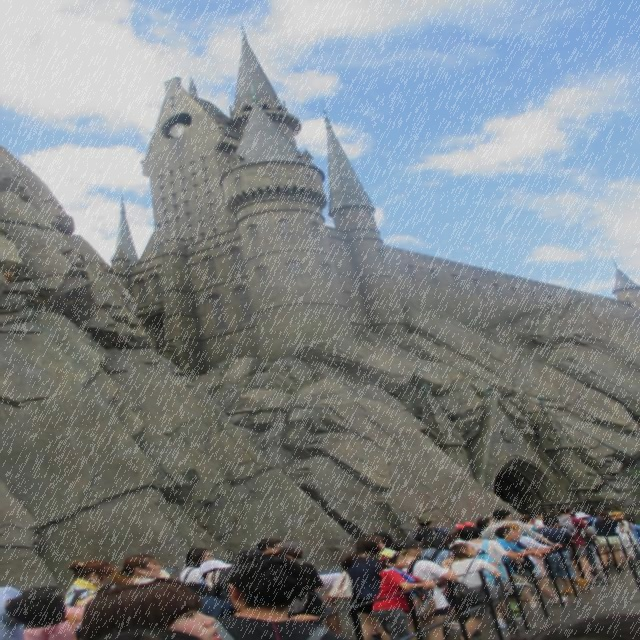pessoa: (0, 576, 233, 640), (214, 553, 352, 640), (392, 538, 460, 640), (368, 547, 438, 640), (500, 522, 570, 608), (338, 534, 394, 640), (448, 542, 504, 640), (528, 514, 590, 596), (494, 526, 544, 608), (276, 542, 326, 620), (553, 506, 601, 587), (417, 534, 458, 628), (62, 560, 116, 628), (478, 508, 564, 550), (392, 525, 468, 561), (457, 524, 525, 564), (592, 509, 627, 572), (552, 510, 624, 536), (110, 554, 164, 587), (610, 511, 638, 567), (178, 547, 217, 585), (412, 514, 451, 540), (574, 512, 596, 544), (198, 558, 233, 576), (518, 514, 542, 538), (256, 538, 282, 554), (624, 518, 640, 544), (476, 517, 496, 531), (586, 510, 598, 527)
